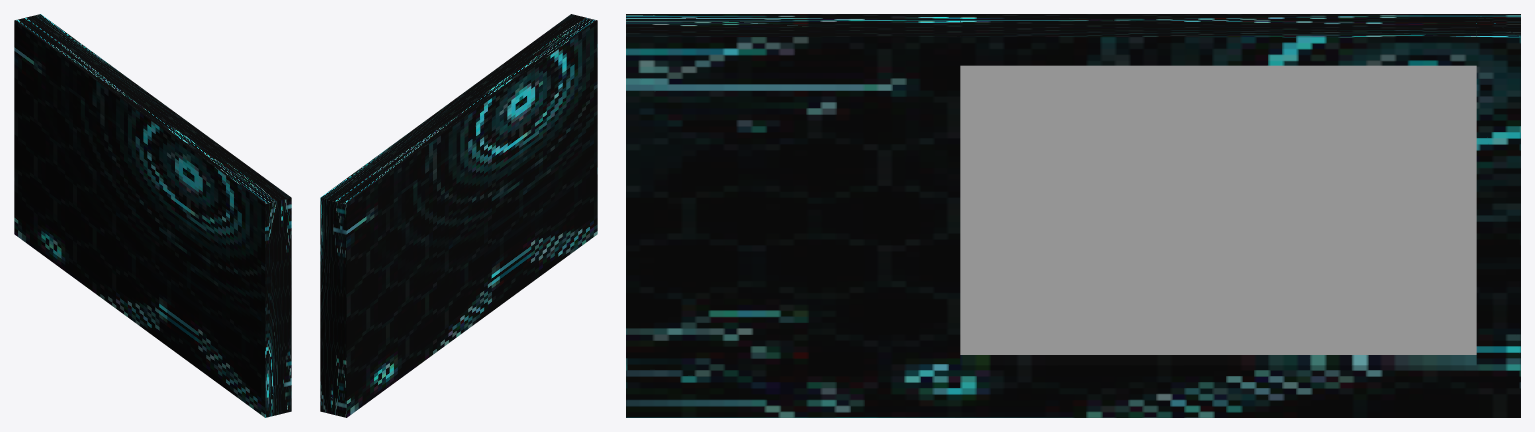
Rendered from panneau 3.fbx.
3 renders of one model, left to right at view 1: azimuth 30°, elevation 25°; view 2: azimuth 150°, elevation 25°; view 3: azimuth 270°, elevation 25°, orthographic. The views are drawn at different scales.
Visible parts, largest first — view 1: Cube; view 2: Cube; view 3: Cube.
Boxes of the visible parts, x1=… form: Cube: x1=14, y1=14, x2=291, y2=417; Cube: x1=320, y1=14, x2=597, y2=417; Cube: x1=626, y1=14, x2=1520, y2=417.
Bounding box in the file's own units: 26 × 200 × 426.
